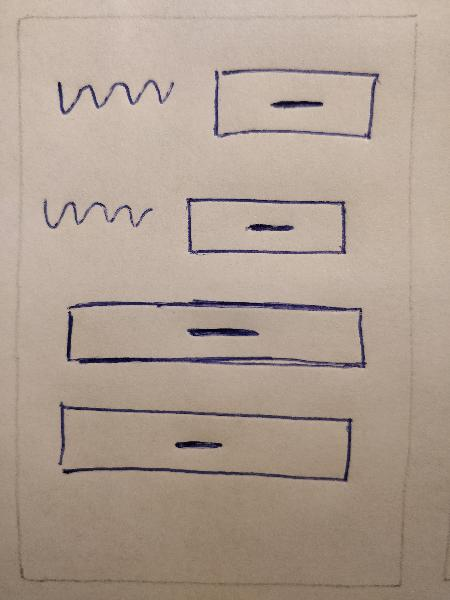button: (50, 397, 361, 488), (59, 296, 374, 384), (205, 59, 384, 153), (179, 188, 355, 271)
text: (49, 64, 182, 125), (35, 188, 161, 245)
